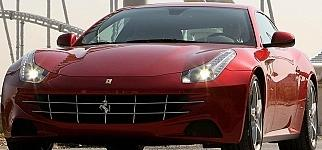front_view: (14, 50, 239, 142)
headlight: (178, 47, 240, 90)
side_glass: (254, 13, 284, 48)
